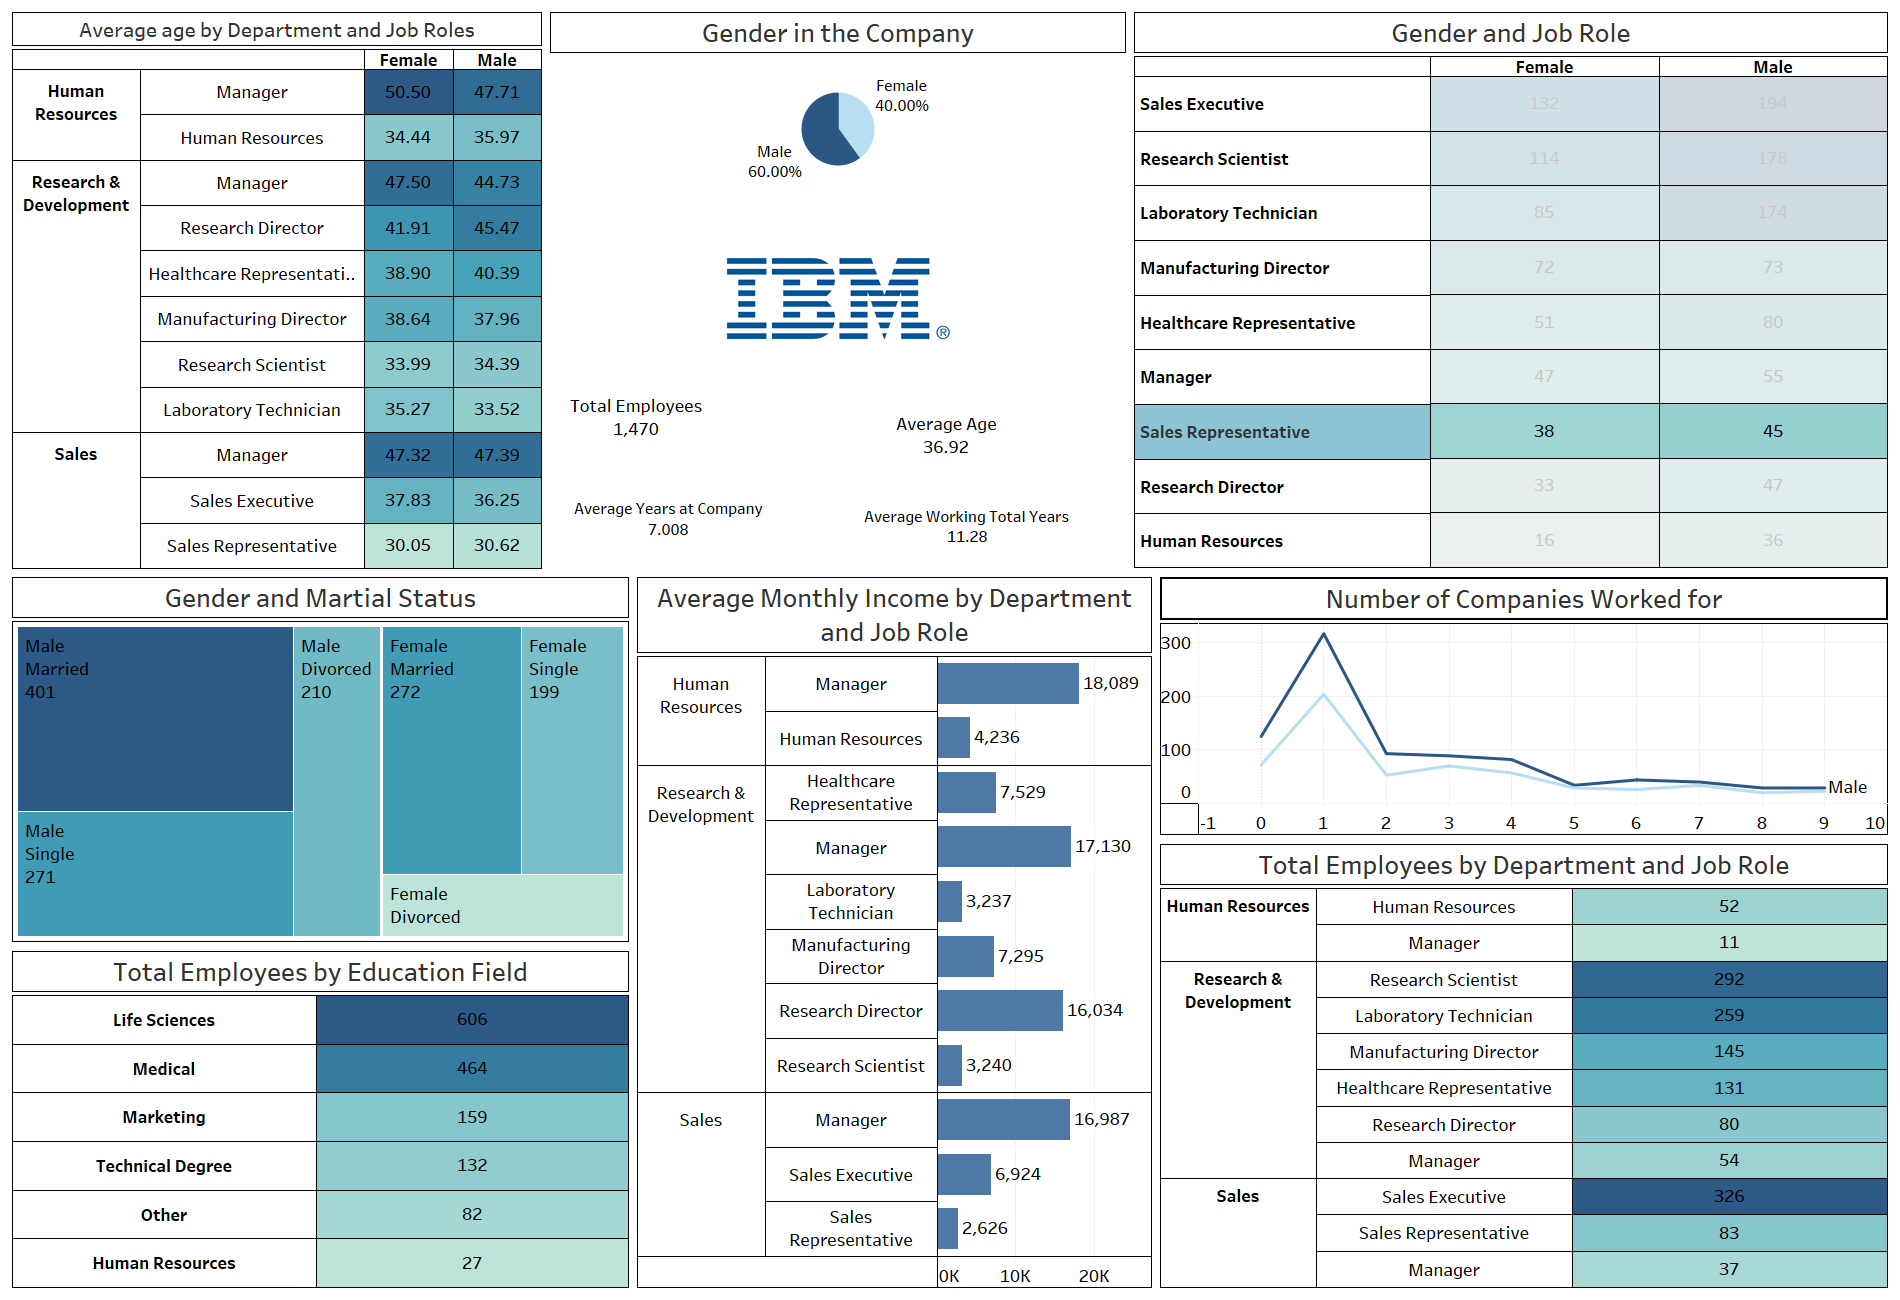

The page's visual inventory and layout, read from the dashboard file:
{"tool":"tableau","page":{"name":"Dashboard 1","canvas":[1900,1300],"ordinal":0},"visuals":[{"type":"worksheet","title":"Average age by Department and Job Roles","mark":"Square","rows":["Department","JobRole"],"cols":["Gender"],"box":[8,8,538,565]},{"type":"worksheet","title":"Gender in the Company","mark":"Pie","box":[546,8,584,198]},{"type":"worksheet","title":"Gender and Job Role","mark":"Square","rows":["JobRole"],"cols":["Gender"],"box":[1130,8,762,565]},{"type":"image","param":"C:/Users/Lenovo/Downloads/1200px-IBM_logo_in.jpg","box":[546,206,584,184]},{"type":"worksheet","title":"Total Employees","mark":"Automatic","box":[546,390,333,92]},{"type":"worksheet","title":"Average Age","mark":"Automatic","box":[879,390,251,92]},{"type":"worksheet","title":"Average Years at Company","mark":"Automatic","box":[546,482,306,91]},{"type":"worksheet","title":"Average Working Total Years","mark":"Automatic","box":[852,482,278,91]},{"type":"worksheet","title":"Gender and Martial Status","mark":"Automatic","box":[8,573,625,374]},{"type":"worksheet","title":"Average Monthly Income by Department and Job Role","mark":"Automatic","rows":["Department","JobRole"],"cols":["MonthlyIncome"],"box":[633,573,523,719]},{"type":"worksheet","title":"Number of Companies Worked for","mark":"Automatic","rows":["Gender"],"cols":["NumCompaniesWorked"],"box":[1156,573,736,266.5]},{"type":"worksheet","title":"Total Employees by Department and Job Role","mark":"Square","rows":["Department","JobRole"],"box":[1156,839.5,736,452.5]},{"type":"worksheet","title":"Total Employees by Education Field","mark":"Square","rows":["EducationField"],"box":[8,947,625,345]}]}

Visuals, with their boxes in screenshot pixels (x1, y1, x2, y2), scaled from the page's 1900x1300 canvas onto the 1900x1300 screenshot:
"Average age by Department and Job Roles" worksheet (Square marks): BBox(8, 8, 546, 573)
"Gender in the Company" worksheet (Pie marks): BBox(546, 8, 1130, 206)
"Gender and Job Role" worksheet (Square marks): BBox(1130, 8, 1892, 573)
image: BBox(546, 206, 1130, 390)
"Total Employees" worksheet: BBox(546, 390, 879, 482)
"Average Age" worksheet: BBox(879, 390, 1130, 482)
"Average Years at Company" worksheet: BBox(546, 482, 852, 573)
"Average Working Total Years" worksheet: BBox(852, 482, 1130, 573)
"Gender and Martial Status" worksheet: BBox(8, 573, 633, 947)
"Average Monthly Income by Department and Job Role" worksheet: BBox(633, 573, 1156, 1292)
"Number of Companies Worked for" worksheet: BBox(1156, 573, 1892, 840)
"Total Employees by Department and Job Role" worksheet (Square marks): BBox(1156, 840, 1892, 1292)
"Total Employees by Education Field" worksheet (Square marks): BBox(8, 947, 633, 1292)
